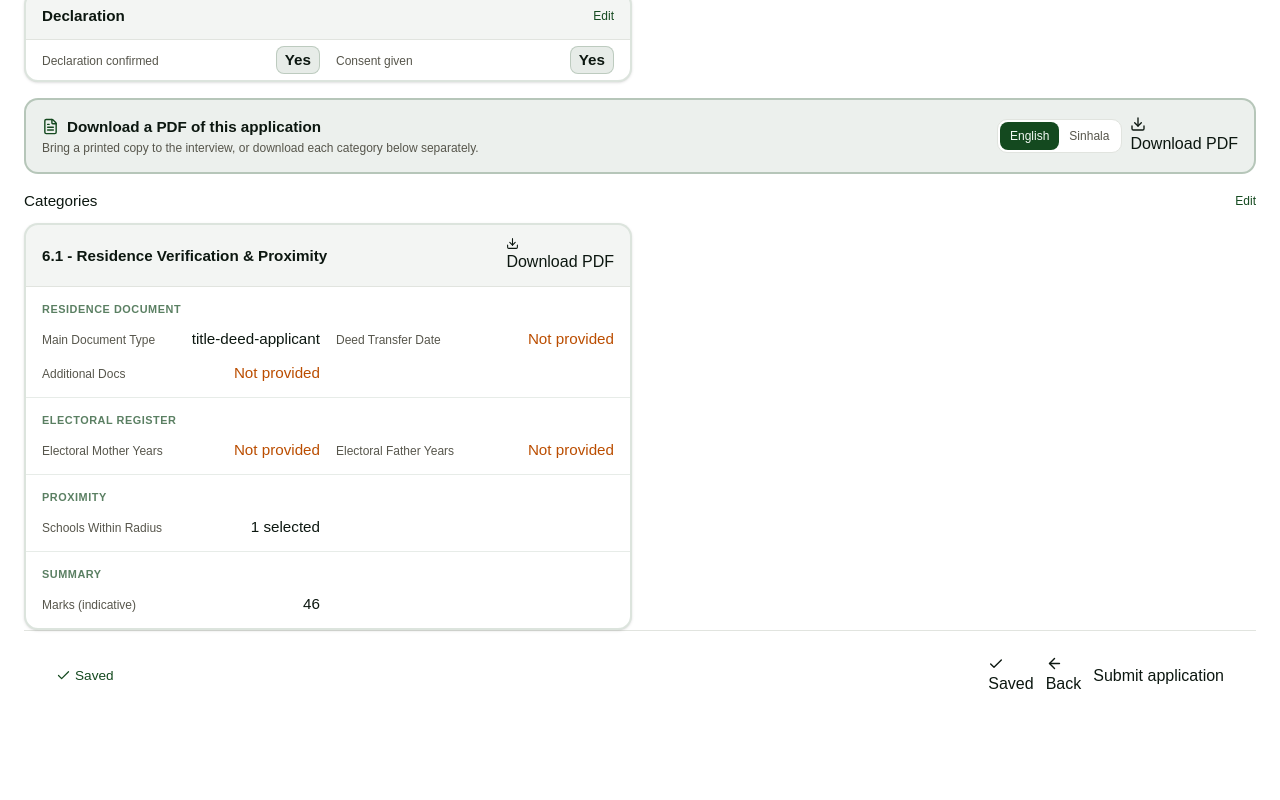
Test: ApplicationForm – submit flow › submits successfully and shows the success view
This screenshot has width=1280, height=800.
(page scrolled)
Click the button "Submit application" at point(1159, 676), box [1093,655,1224,696]
(page scrolled)
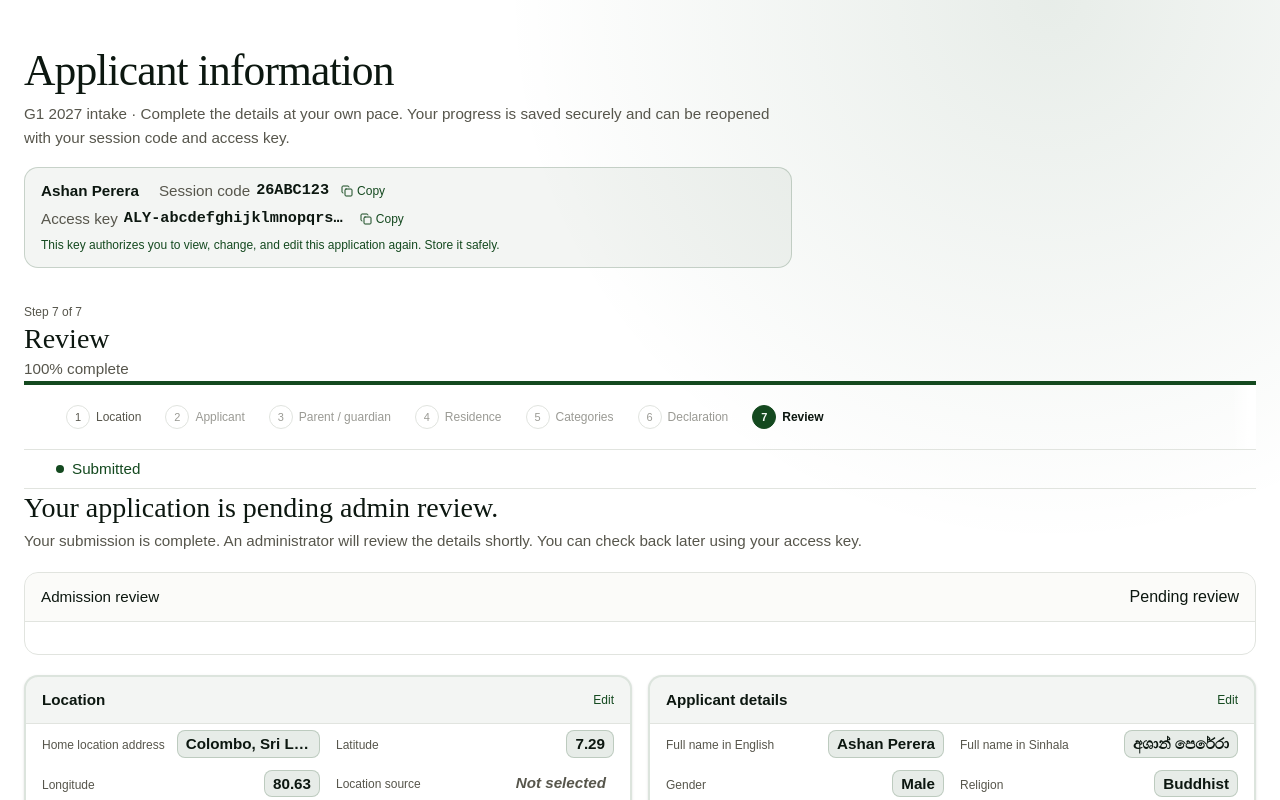
Result: the text "ALY-abcdefghijklmnopqrstuvwxyzABCDEFGHIJKLMNO" is shown at [124,208,348,230]
